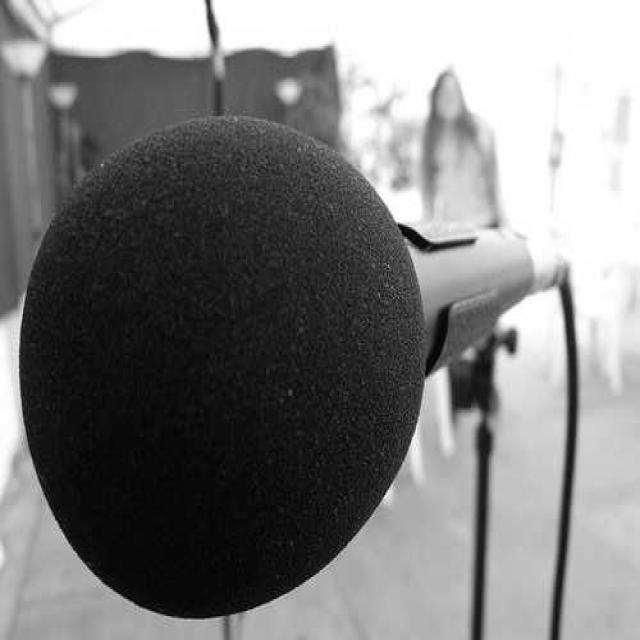microphone: (25, 172, 542, 577)
